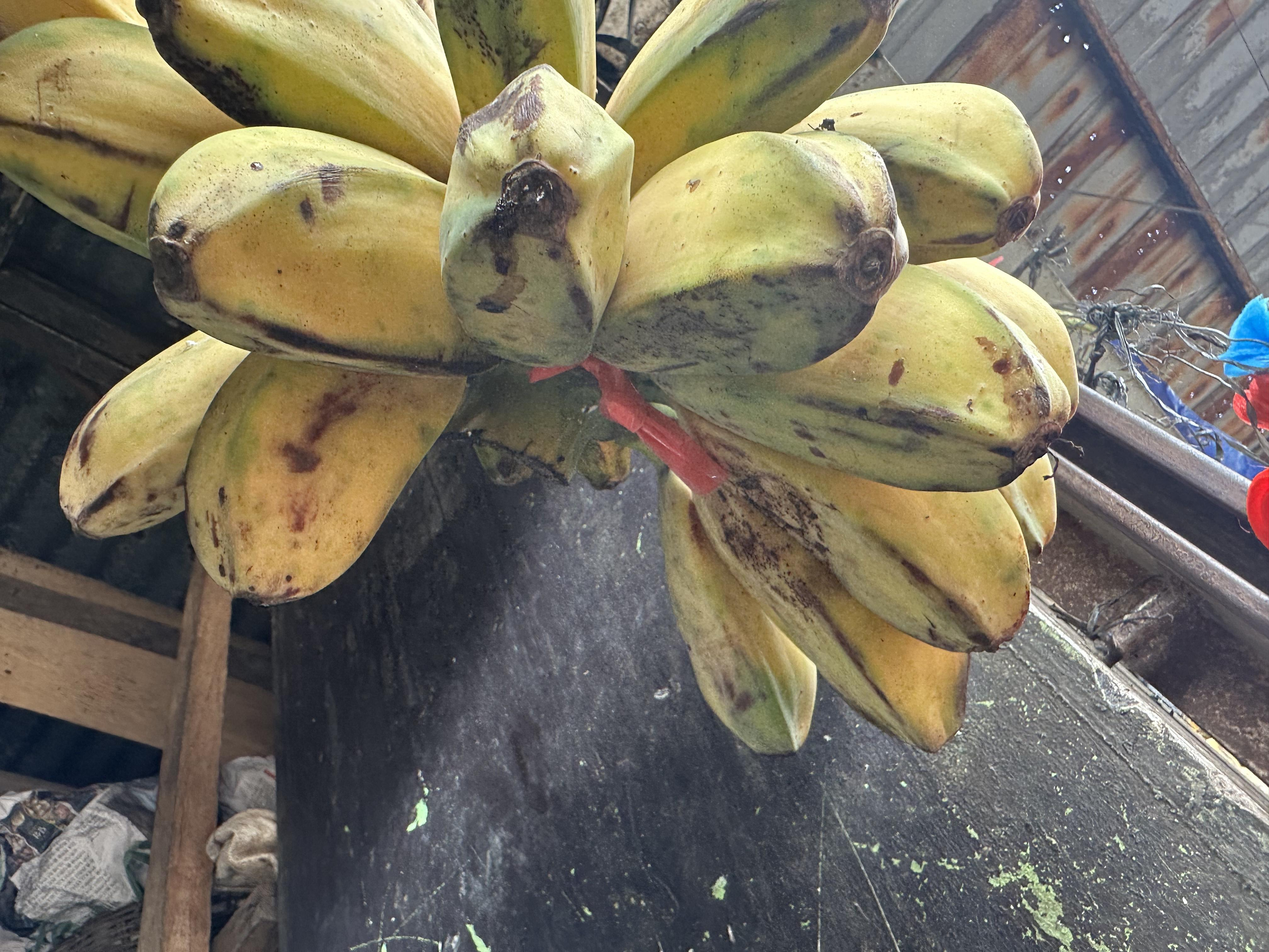underripe: (0, 2, 1080, 752)
